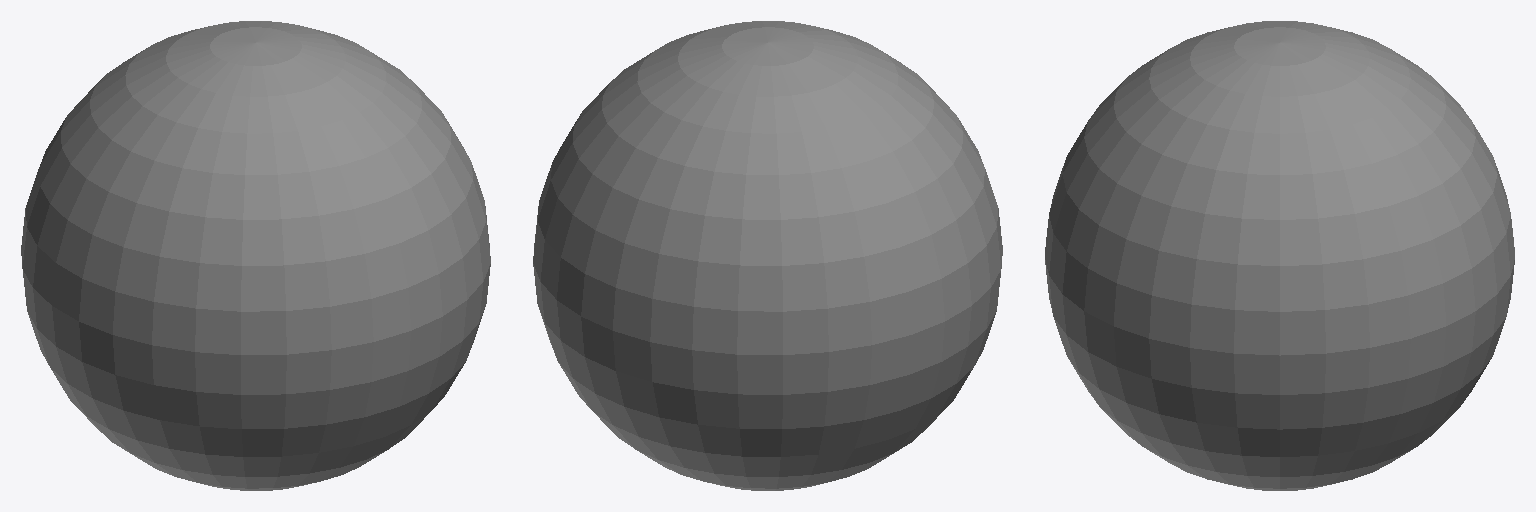
File: dogSphere.obj
3 renders of one model, left to right at view 1: azimuth 30°, elevation 25°; view 2: azimuth 150°, elevation 25°; view 3: azimuth 270°, elevation 25°, orthographic.
Parts seen in each view (by area): view 1: Sphere001; view 2: Sphere001; view 3: Sphere001.
Part boxes in pixels (x1,y1,x2,y2): Sphere001: (21,21,490,490); Sphere001: (533,21,1002,490); Sphere001: (1045,21,1514,490).
Bounding box in the file's own units: 1.21 × 1.21 × 1.21.